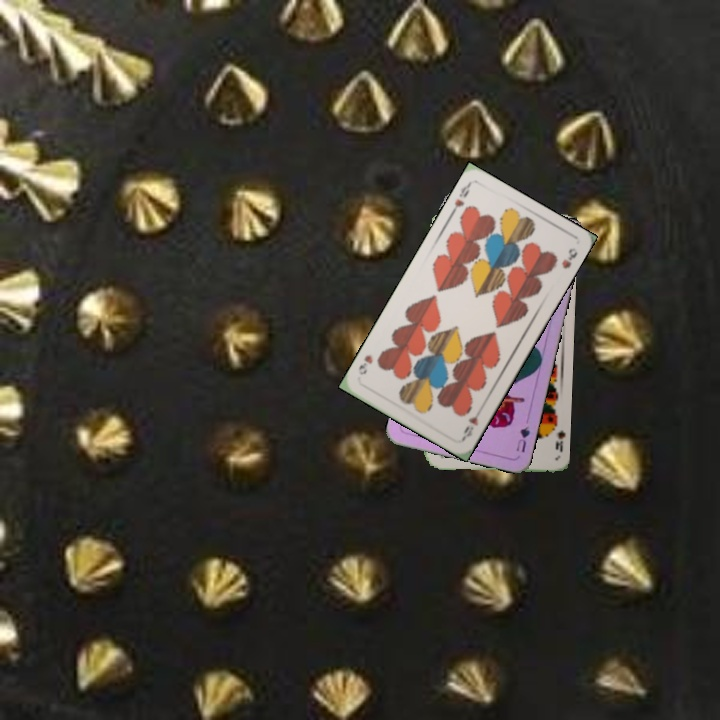GU: (512, 422, 532, 455)
H9: (459, 404, 485, 441), (447, 180, 473, 217)
S9: (547, 417, 566, 455)
